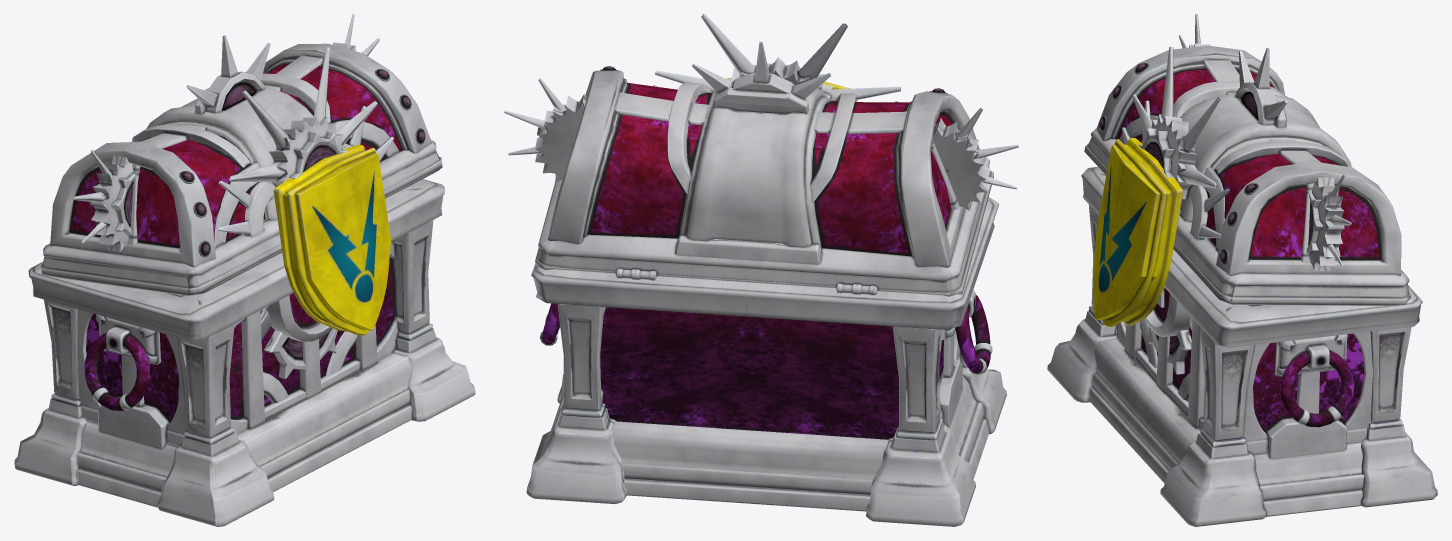
Rendered from VictoryChest_VIPEpic.fbx.
The picture shows the model from 3 angles, left to right: view 1: azimuth 30°, elevation 25°; view 2: azimuth 150°, elevation 25°; view 3: azimuth 270°, elevation 25°; orthographic projection. The views are drawn at different scales.
Visible parts, largest first — view 1: ChestMain, ChestTop; view 2: ChestMain, ChestTop; view 3: ChestMain, ChestTop.
Boxes of the visible parts, bbox=[...] form: ChestMain: bbox=[14, 179, 475, 526]; ChestTop: bbox=[41, 14, 442, 335]; ChestMain: bbox=[526, 197, 1006, 526]; ChestTop: bbox=[504, 14, 1018, 296]; ChestMain: bbox=[1047, 167, 1437, 526]; ChestTop: bbox=[1084, 14, 1410, 327].
Size of the model in its own units: 5.25 by 4.79 by 4.37.
Materials: 1 (1 with a texture image).
